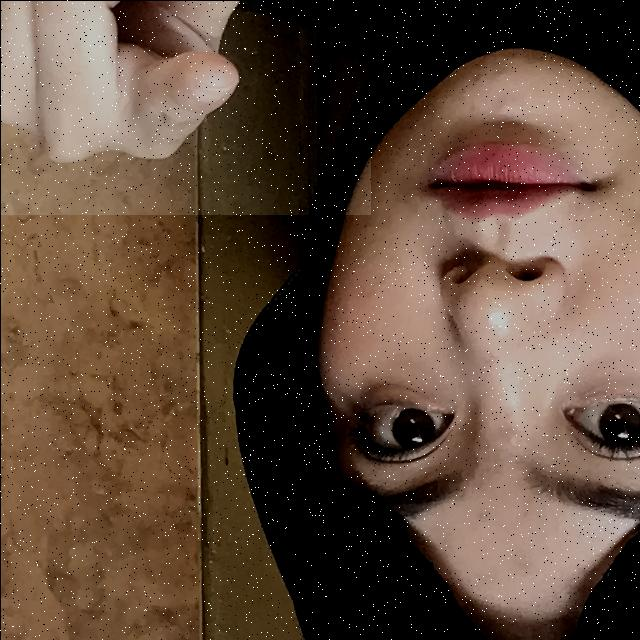kamu: (0, 0, 370, 214)
